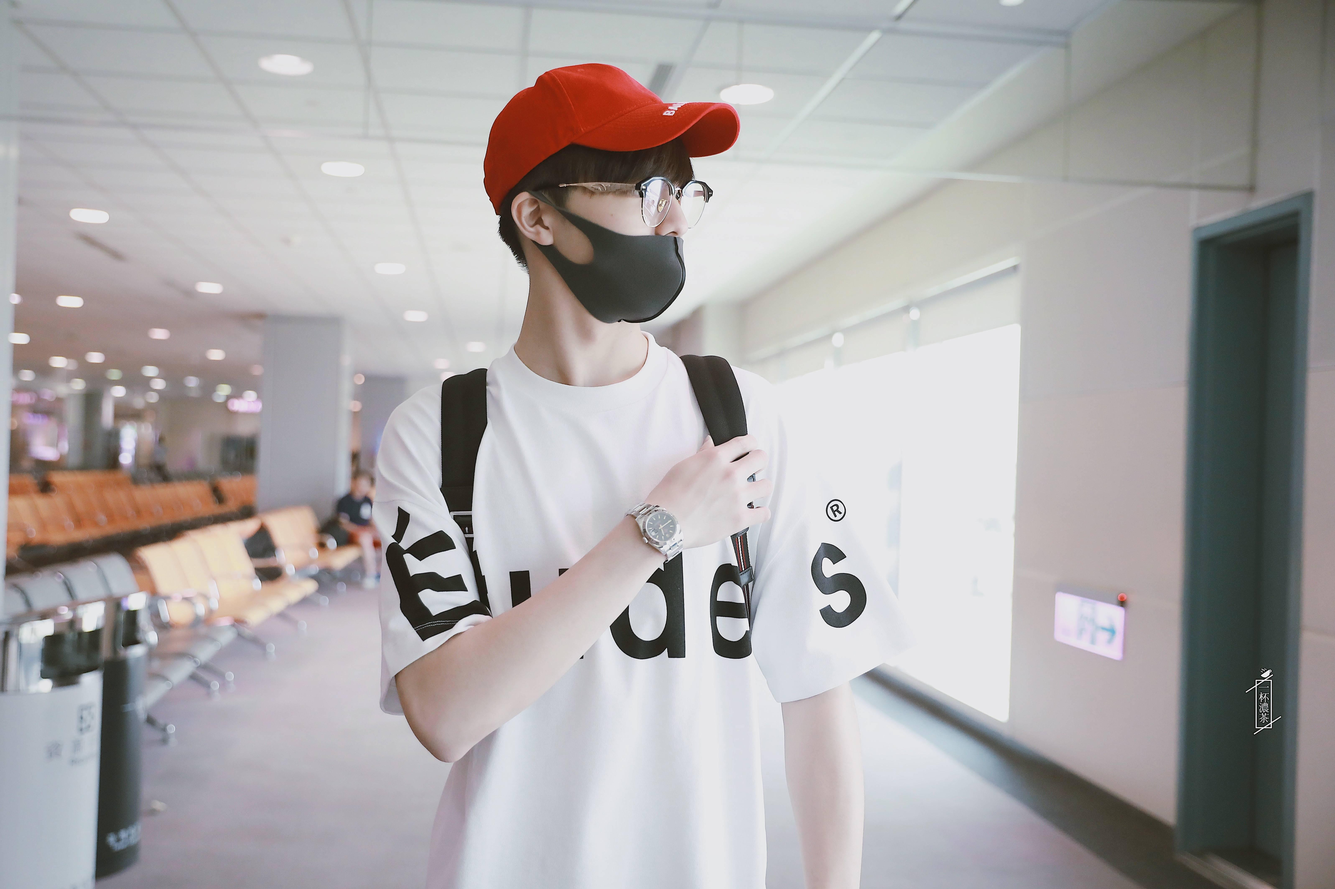WRONG: (566, 160, 690, 331)
